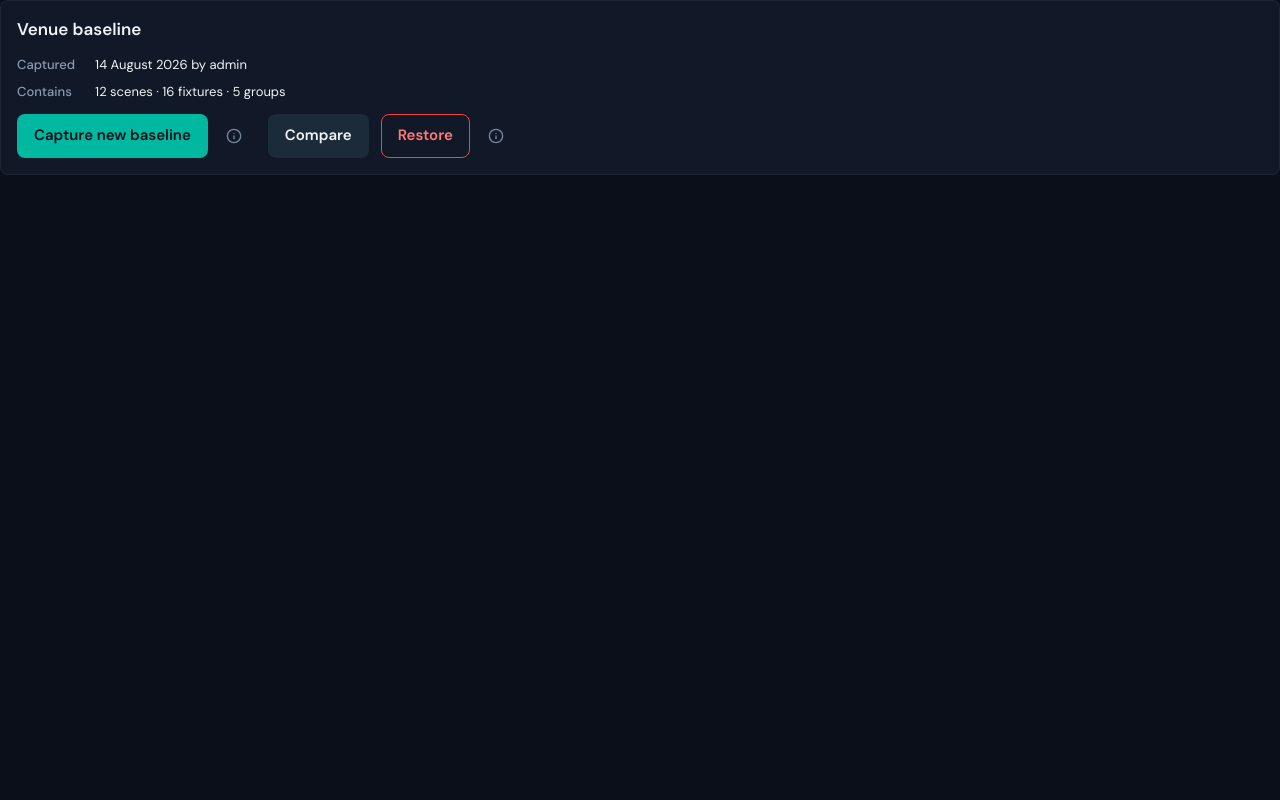
BaselineCard — Restore's confirmation and reversibility › lists the missing devices a restore refuses over, rather than restoring a channel with nothing behind it
Click the button "Restore" at (425, 136), box [381,114,470,158]
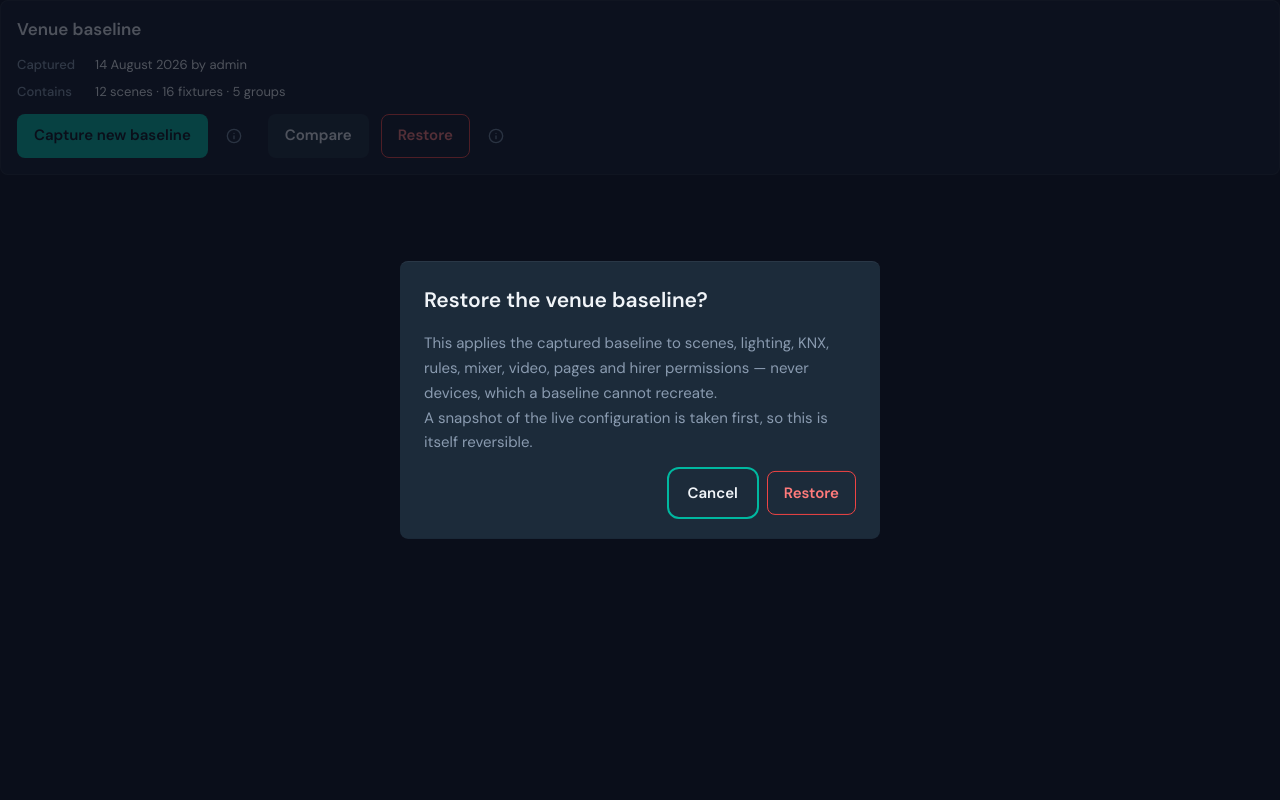
Click the button "Restore" at (811, 493), box [767,471,856,515]
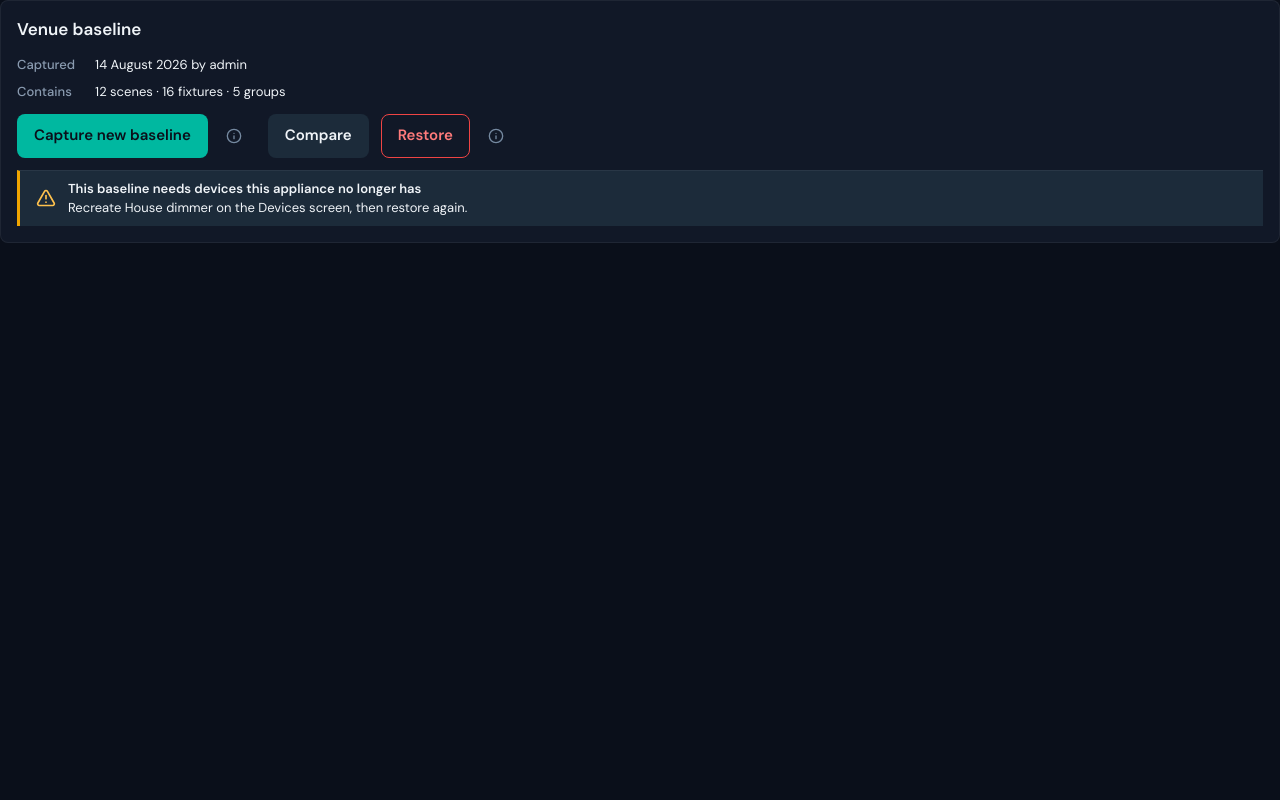
Expected: the text "House dimmer" is shown, [125,199,213,216]
Expected: the text "This baseline needs devices this appliance no longer has" is shown, [68,180,421,196]
